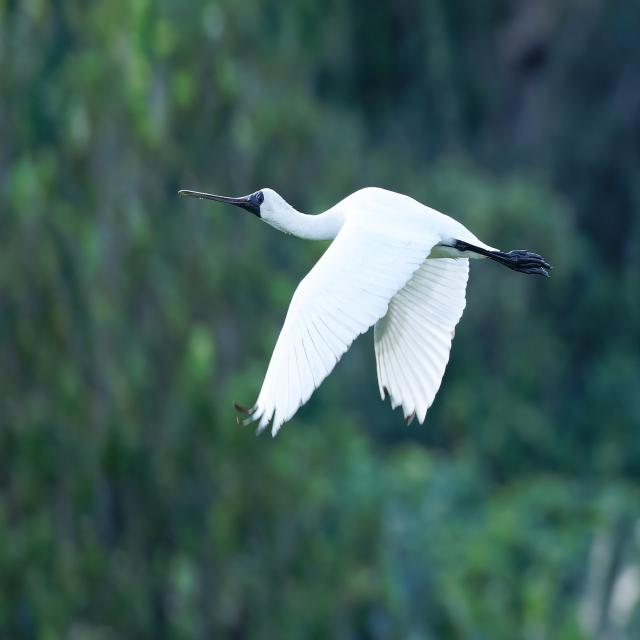Black-faced spoonbill: (180, 188, 550, 435)
